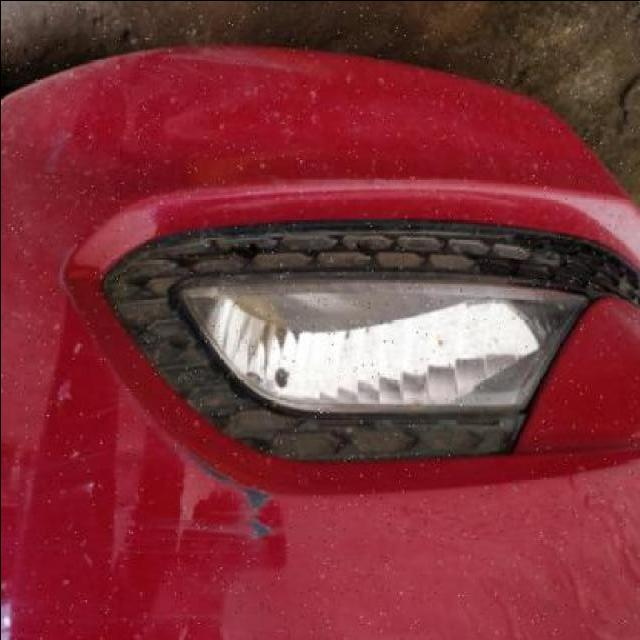front-bumper-dent: (2, 64, 640, 562)
